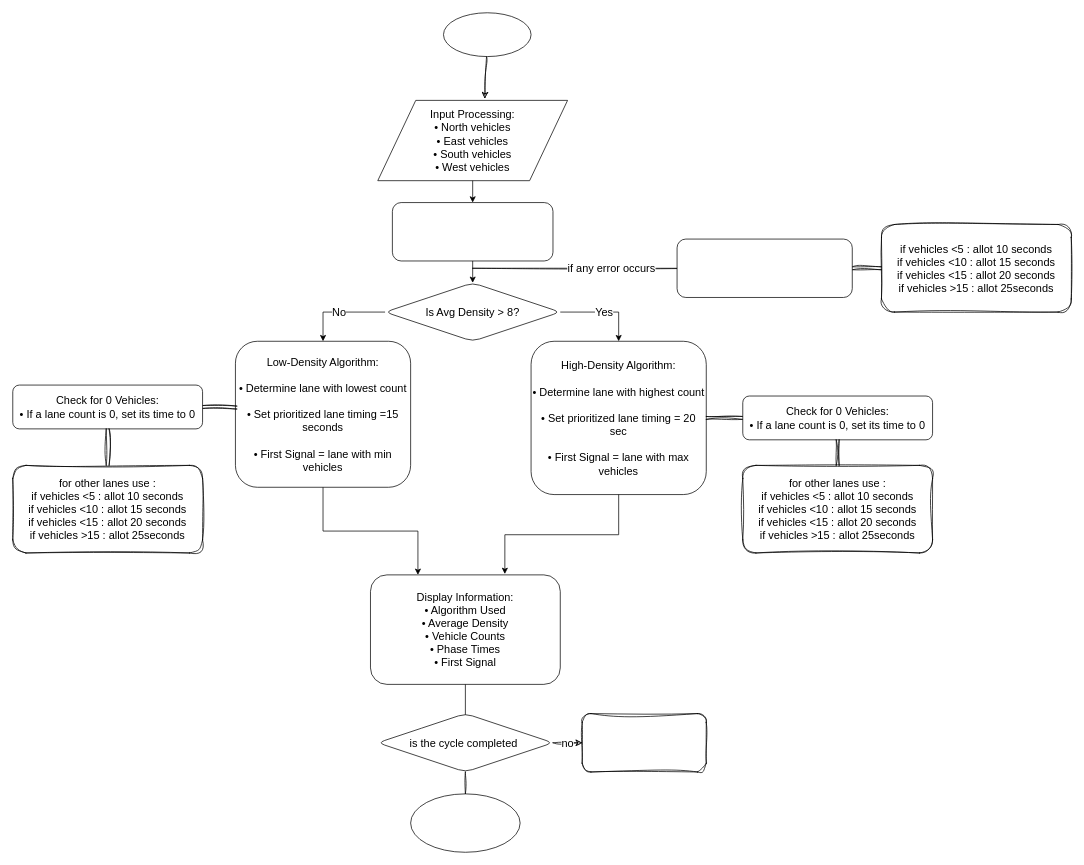
Image size: 1084x865. Some labels were removed from this diagram. Here are the shapes that lost their labels. From the top down, the box of each, then its label:
(443, 12, 531, 57): Start
(392, 202, 553, 261): Calculate Traffic Metrics: • Total Vehicles • Average Density
(676, 238, 852, 297): Default Algorithm: gets dynamic value for each lane
(581, 713, 706, 772): contine the sane code till cycle completes
(410, 793, 520, 852): End move on to next cycle
